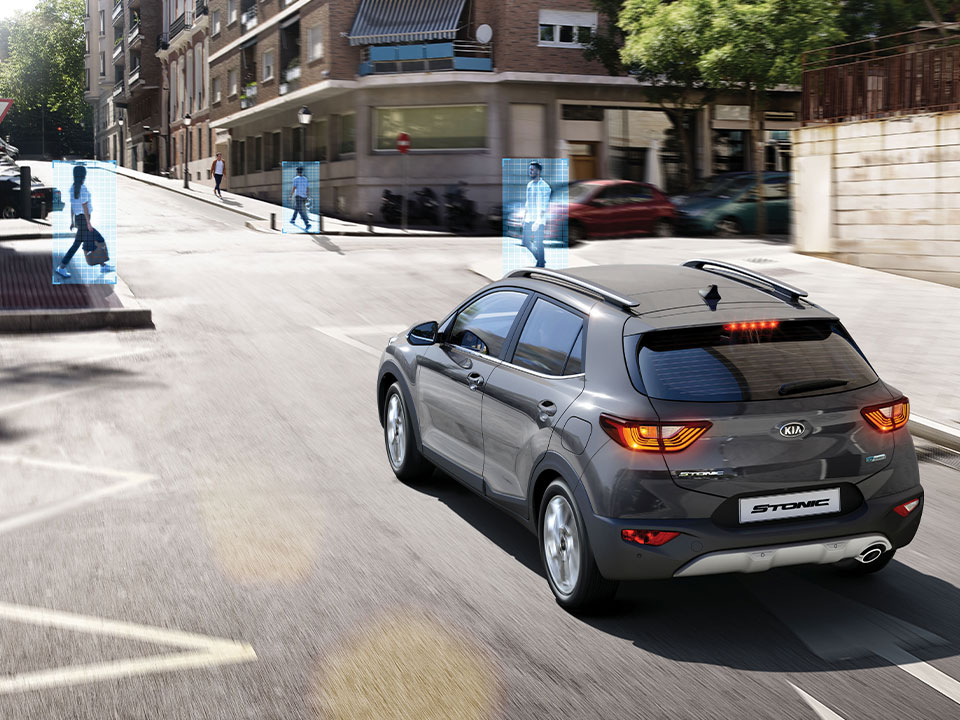Automovil: (493, 176, 715, 251)
Camioneta: (354, 249, 922, 602), (674, 169, 802, 258)
